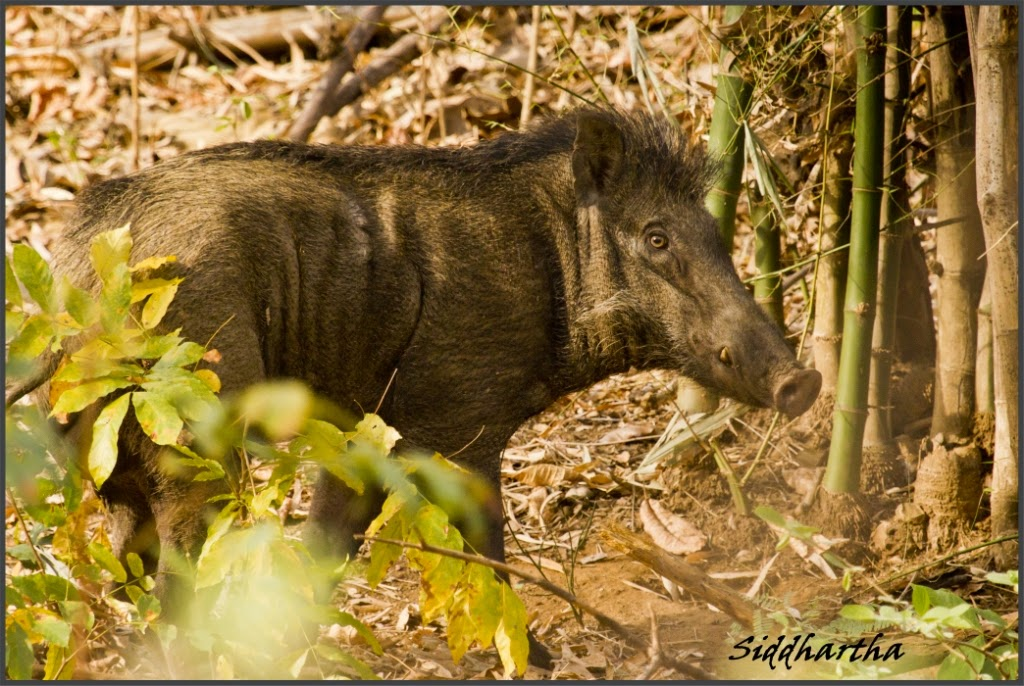wild boar: (49, 93, 886, 649)
